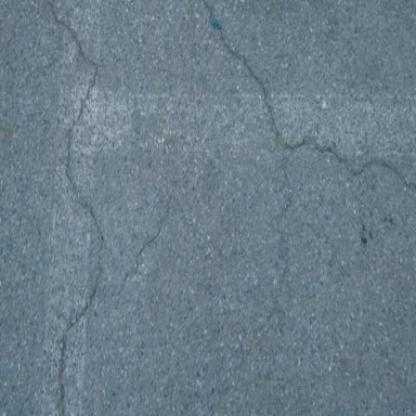Cracks: (197, 0, 415, 194), (35, 1, 114, 415)
